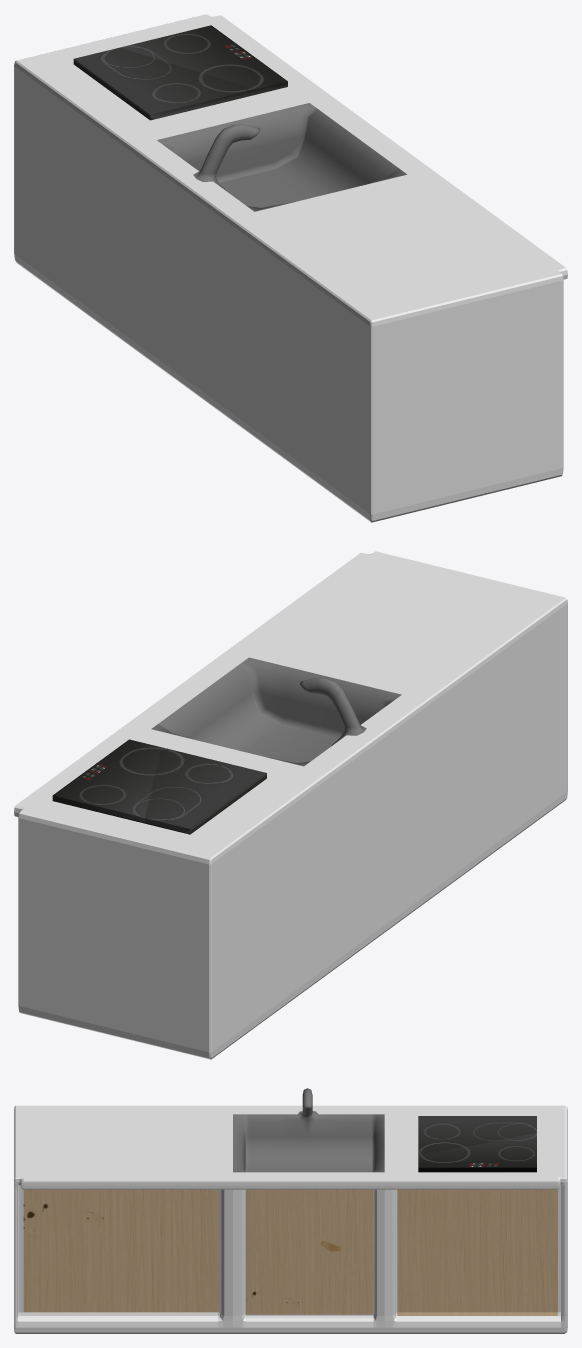
The model's file is Kitchen Counter 2 NEW.fbx.
3 renders of one model, top to bottom at view 1: azimuth 30°, elevation 25°; view 2: azimuth 150°, elevation 25°; view 3: azimuth 270°, elevation 25°, orthographic. The views are drawn at different scales.
Parts seen in each view (by area): view 1: Counter, sink; view 2: Counter, sink; view 3: Counter, sink.
Boxes of the visible parts, bbox=[...] form: Counter: bbox=[14, 14, 567, 522]; sink: bbox=[157, 103, 406, 211]; Counter: bbox=[14, 551, 567, 1059]; sink: bbox=[151, 657, 401, 766]; Counter: bbox=[14, 1105, 567, 1333]; sink: bbox=[233, 1088, 384, 1172].
Size of the model in its own units: 77.48 by 90.49 by 238.
